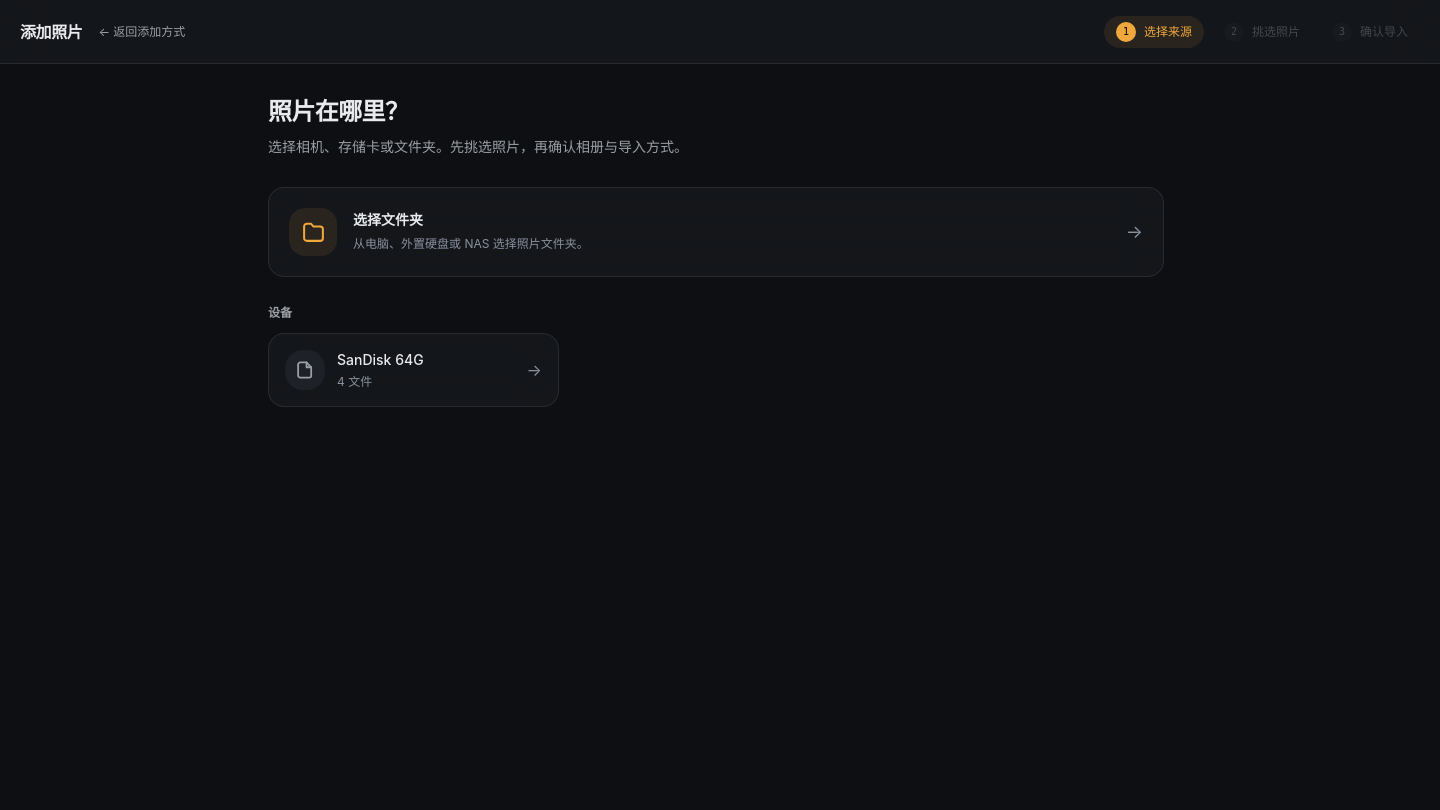
it: 选择文件夹与最近使用 › folderScan 失败（IPC 不可用等）：提示错误并停留来源步，不产生死条目
Click the button with test id "wizard-choose-folder" at [313, 232], box [268,187,1164,277]
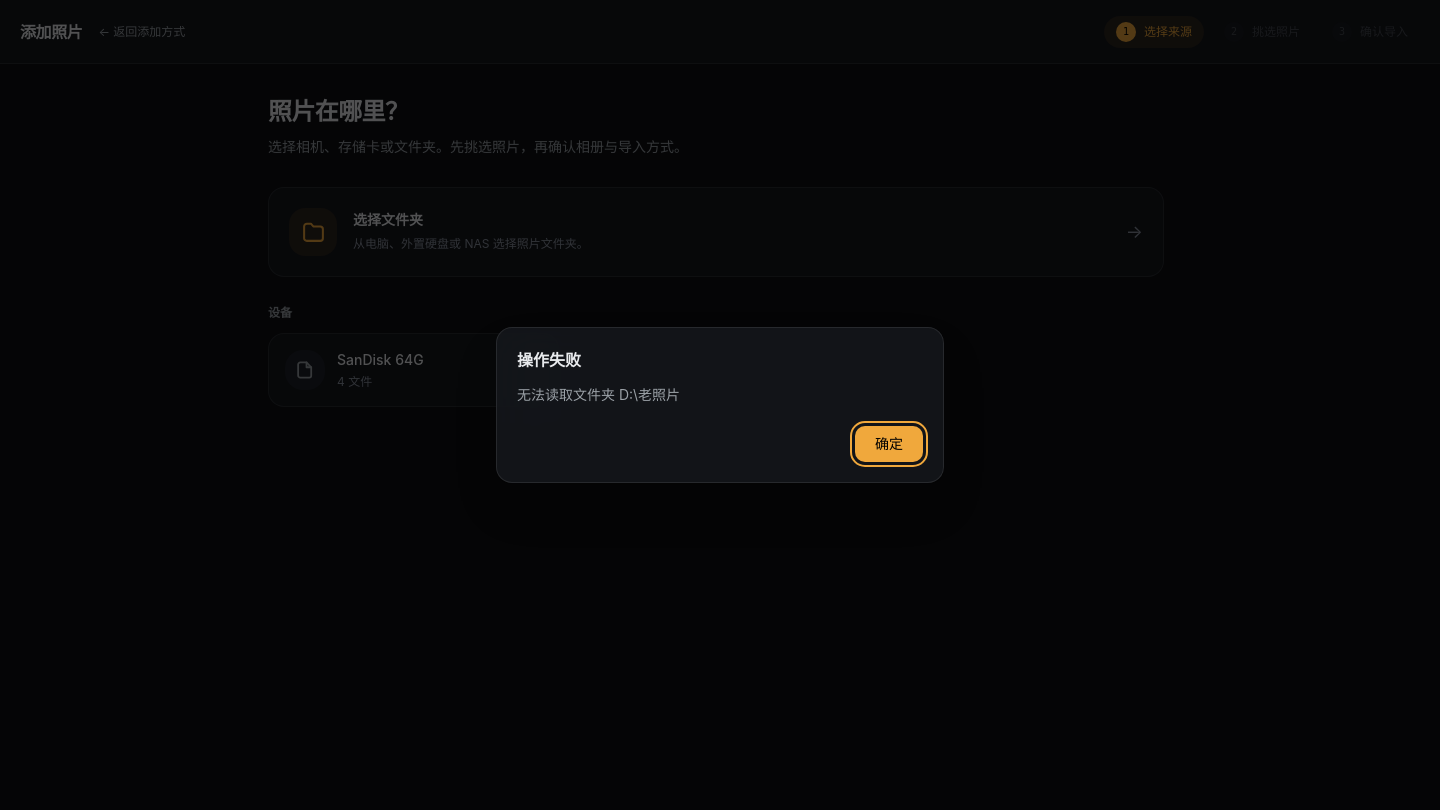
Expected: the element with test id "wizard-source-picker" is shown, [268,97,1164,407]
Expected: the dialog shows "D:\\老照片", [517,386,680,403]
